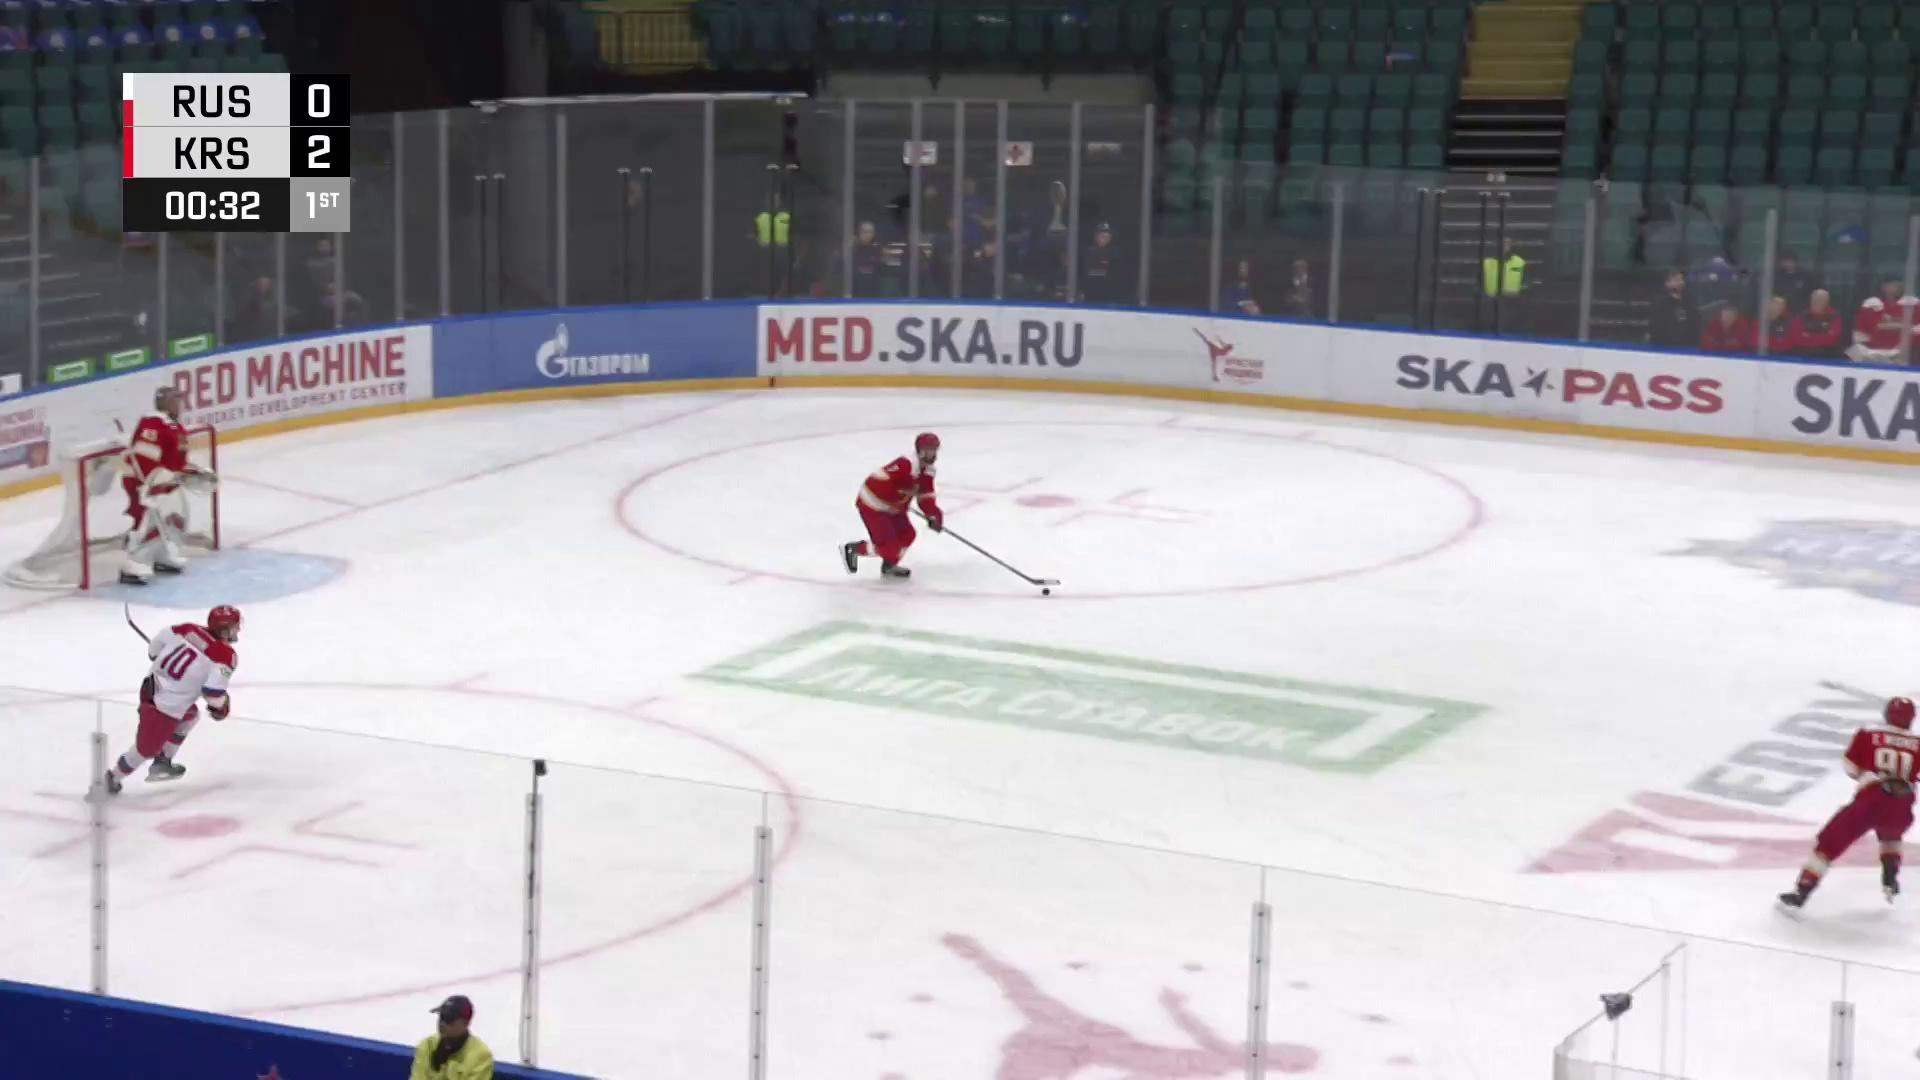ball: (1042, 588, 1052, 596)
